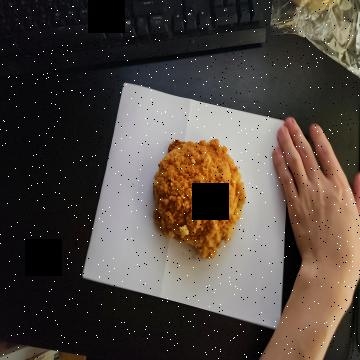soboru_bread: (148, 137, 246, 265)
